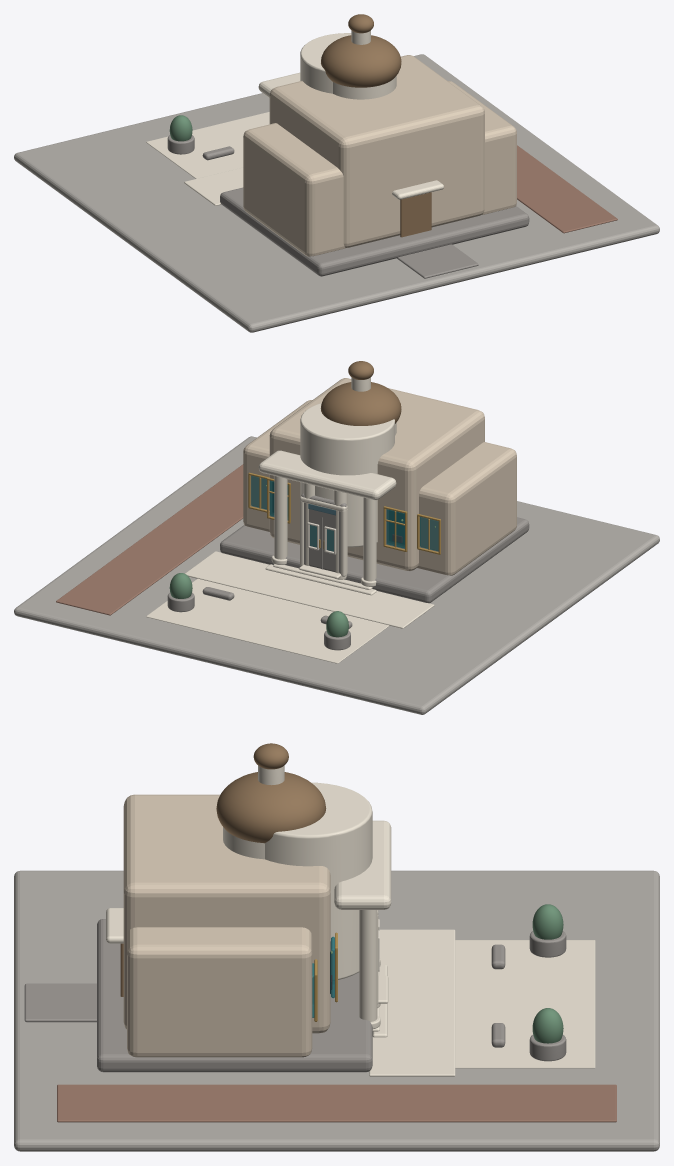
File: civic_hall.81a289dc2280.glb
3 views of the same model, one above another, from view 1: azimuth 30°, elevation 25°; view 2: azimuth 150°, elevation 25°; view 3: azimuth 270°, elevation 25° (orthographic). The views are drawn at different scales.
Visible parts, largest first — view 1: PAD_CIVIC_HALL_01, CivicHall_MainBody, CivicHall_WestWing, CivicHall_Plinth, Emergency_Route_4m, CivicHall_Dome, FRONTAGE_CIVIC_HALL_01_MAIN, CivicHall_EastWing, SERVICE_CIVIC_HALL_01_REAR, CivicHall_Rotunda, CivicHall_RearDoor, Public_Pedestrian_Band_4m (+3 smaller); view 2: PAD_CIVIC_HALL_01, CivicHall_MainBody, CivicHall_WestWing, Emergency_Route_4m, FRONTAGE_CIVIC_HALL_01_MAIN, Public_Pedestrian_Band_4m, CivicHall_Rotunda, CivicHall_Plinth, CivicHall_PorticoCanopy, CivicHall_Dome, CivicHall_EastWing, CivicHall_EntryRecess (+6 smaller); view 3: PAD_CIVIC_HALL_01, CivicHall_EastWing, CivicHall_MainBody, Emergency_Route_4m, FRONTAGE_CIVIC_HALL_01_MAIN, Public_Pedestrian_Band_4m, CivicHall_Plinth, CivicHall_Rotunda, CivicHall_Dome, CivicHall_PorticoCanopy, SERVICE_CIVIC_HALL_01_REAR, CivicHall_PorticoColumn (+7 smaller).
Part boxes in pixels (x1,y1,x2,y2): PAD_CIVIC_HALL_01: (14, 54, 659, 332); CivicHall_MainBody: (269, 55, 484, 247); CivicHall_WestWing: (243, 123, 345, 256); CivicHall_Plinth: (220, 187, 529, 276); Emergency_Route_4m: (517, 145, 617, 233); CivicHall_Dome: (321, 35, 401, 87); FRONTAGE_CIVIC_HALL_01_MAIN: (146, 112, 269, 178); CivicHall_EastWing: (448, 81, 516, 214); SERVICE_CIVIC_HALL_01_REAR: (397, 244, 478, 278); CivicHall_Rotunda: (300, 33, 351, 93); CivicHall_RearDoor: (400, 192, 431, 237); Public_Pedestrian_Band_4m: (184, 167, 243, 205); PAD_CIVIC_HALL_01: (14, 436, 659, 714); CivicHall_MainBody: (269, 378, 484, 571); CivicHall_WestWing: (417, 442, 516, 575); Emergency_Route_4m: (56, 464, 243, 615); FRONTAGE_CIVIC_HALL_01_MAIN: (146, 578, 389, 663); Public_Pedestrian_Band_4m: (185, 551, 434, 628); CivicHall_Rotunda: (300, 403, 394, 547); CivicHall_Plinth: (220, 517, 529, 603); CivicHall_PorticoCanopy: (258, 450, 396, 500); CivicHall_Dome: (320, 382, 401, 425); CivicHall_EastWing: (243, 400, 312, 531); CivicHall_EntryRecess: (301, 493, 346, 573); PAD_CIVIC_HALL_01: (14, 870, 659, 1151); CivicHall_EastWing: (127, 927, 312, 1057); CivicHall_MainBody: (123, 794, 330, 1033); Emergency_Route_4m: (57, 1084, 616, 1122); FRONTAGE_CIVIC_HALL_01_MAIN: (455, 940, 595, 1068); Public_Pedestrian_Band_4m: (369, 929, 455, 1076); CivicHall_Plinth: (97, 919, 372, 1072); CivicHall_Rotunda: (265, 782, 372, 979); CivicHall_Dome: (216, 772, 326, 843); CivicHall_PorticoCanopy: (334, 820, 391, 909); SERVICE_CIVIC_HALL_01_REAR: (24, 983, 96, 1022); CivicHall_PorticoColumn: (359, 910, 377, 1021).
Size of the model in its own units: 30 by 13.9 by 30.
